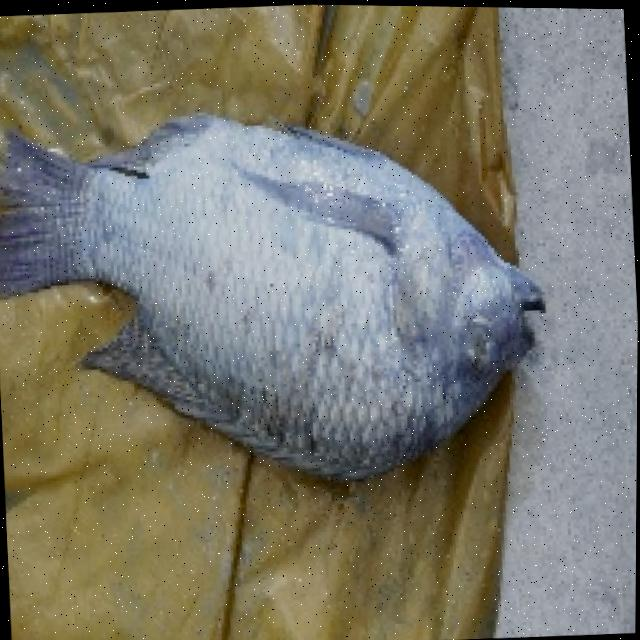Non-Fresh: (84, 100, 567, 509)
